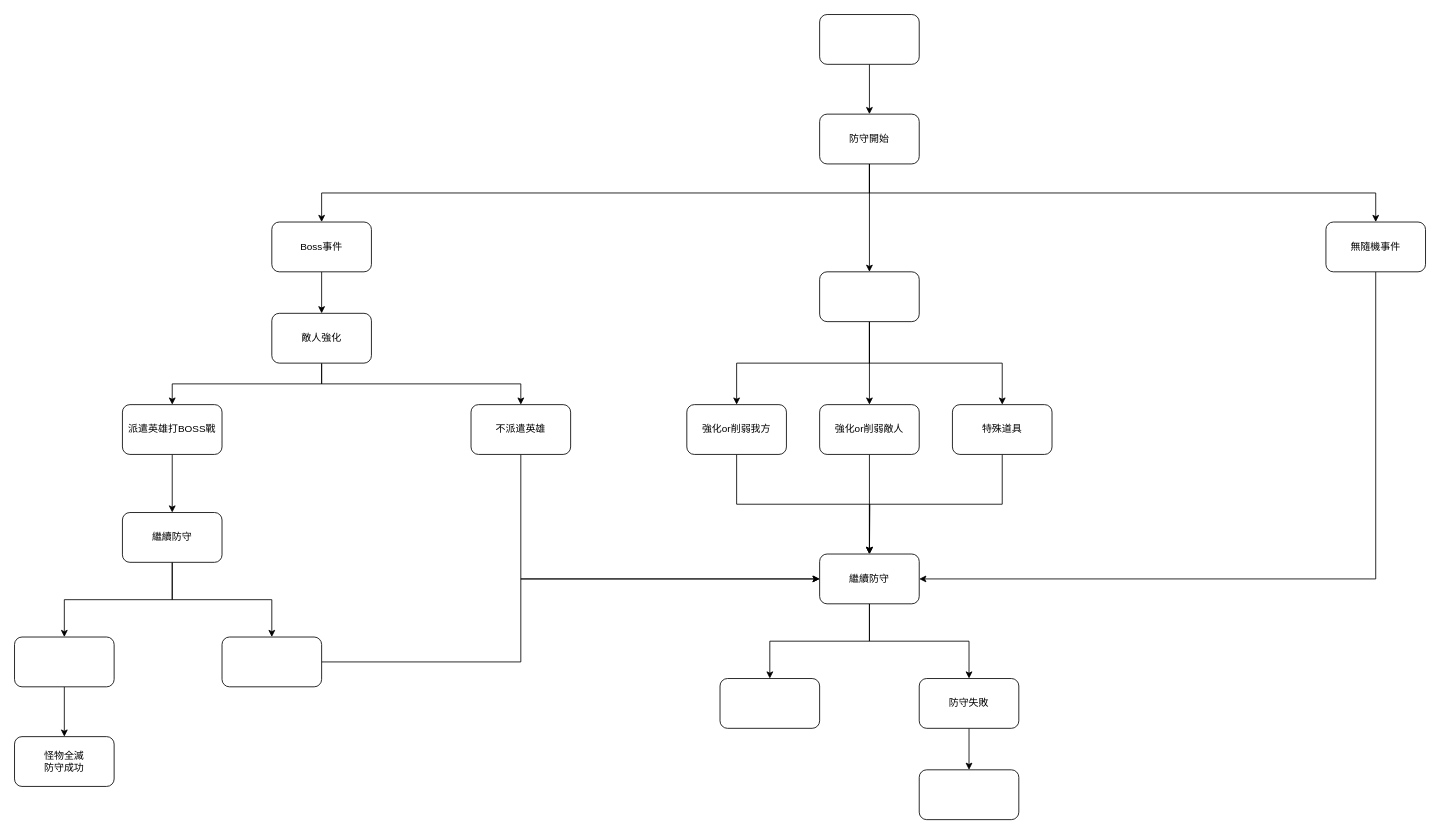
Some shapes in this 1440 by 834 pixel diagram are drawn without their labels. Here are the shapes that lost their labels. From the top down, the box of each, then its label:
(819, 14, 919, 64): 部屬階段
(819, 271, 919, 322): 隨機事件
(14, 636, 114, 687): 擊殺成功
(221, 636, 322, 687): 擊殺失敗
(719, 678, 820, 728): 防守成功
(918, 769, 1019, 820): 失敗回檔
